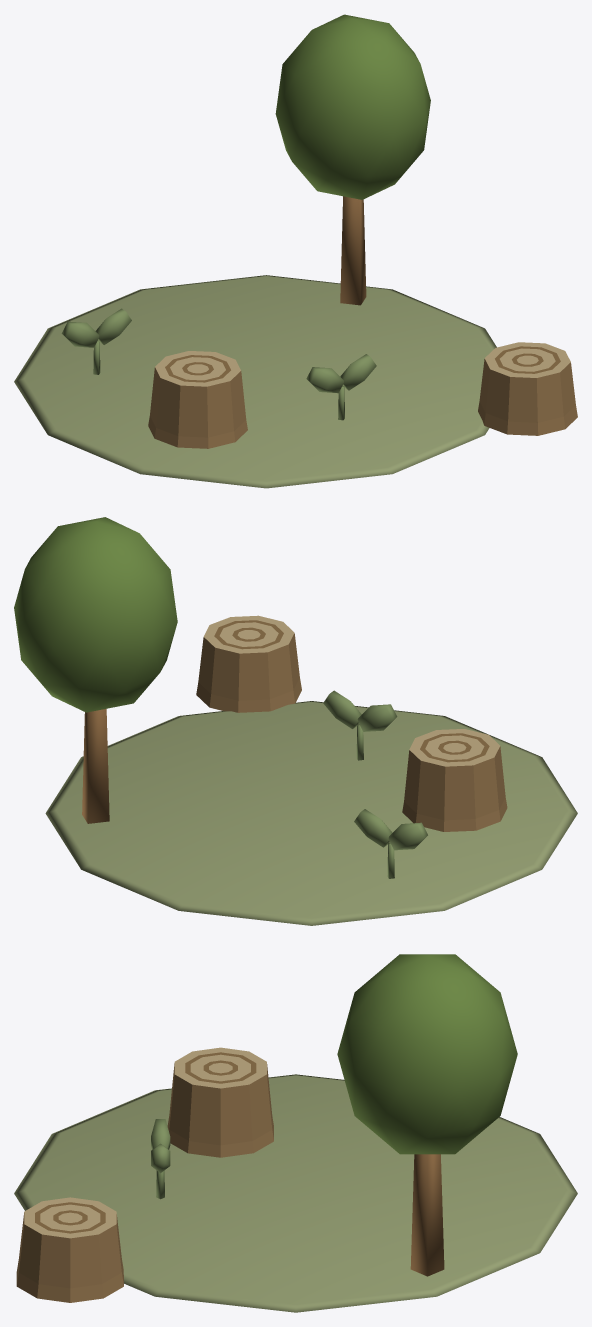
The model's file is grove_gathered.glb.
3 renders of one model, top to bottom at view 1: azimuth 30°, elevation 25°; view 2: azimuth 150°, elevation 25°; view 3: azimuth 270°, elevation 25°, orthographic. The views are drawn at different scales.
Parts seen in each view (by area): view 1: grove_gathered; view 2: grove_gathered; view 3: grove_gathered.
Boxes of the visible parts, x1,y1,x2,y2 form: grove_gathered: [14, 14, 577, 488]; grove_gathered: [14, 517, 577, 925]; grove_gathered: [14, 954, 577, 1312].
Bounding box in the file's own units: 1.5 × 0.95 × 1.5.
